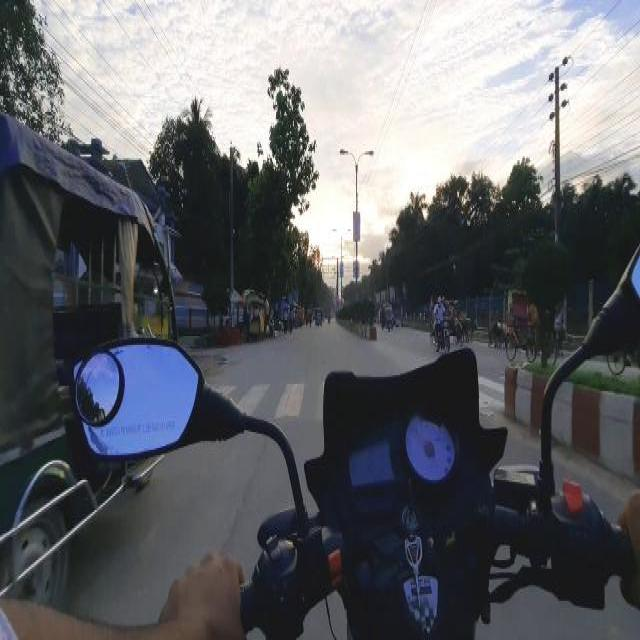motorcycle: (4, 112, 177, 599), (505, 286, 534, 359), (432, 309, 449, 347), (380, 302, 391, 331), (315, 306, 321, 325)
